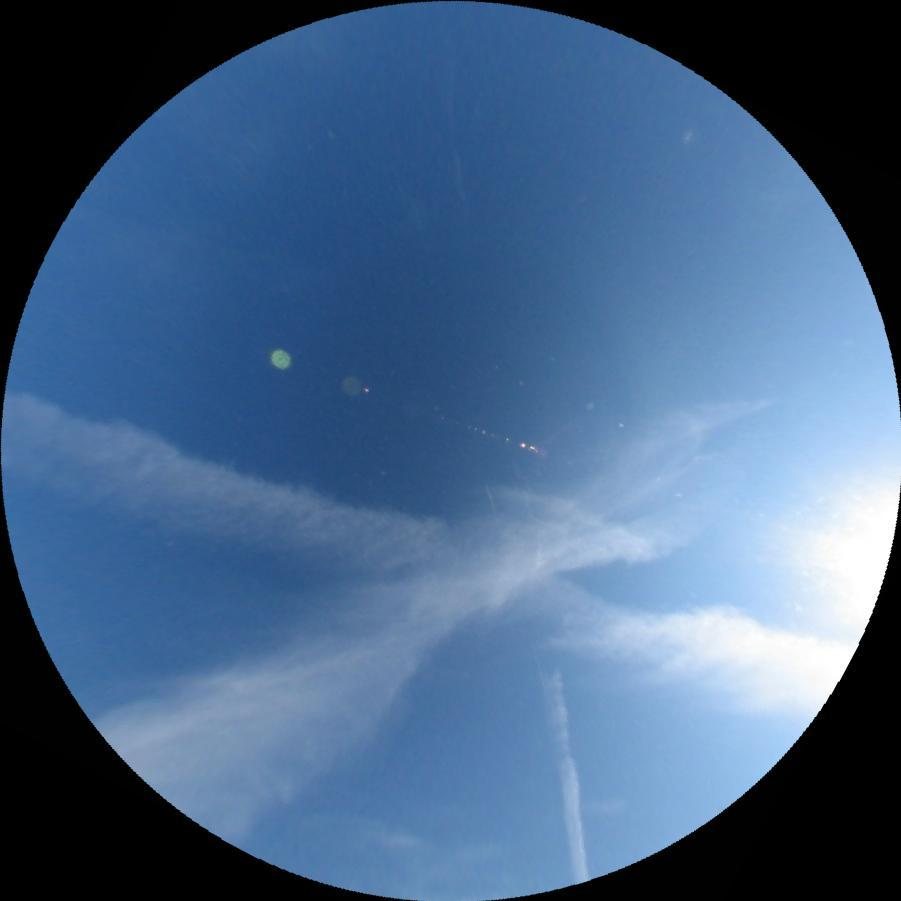contrail veryold: (0, 386, 856, 743), (537, 666, 594, 882)
contrail young: (484, 482, 549, 698)
